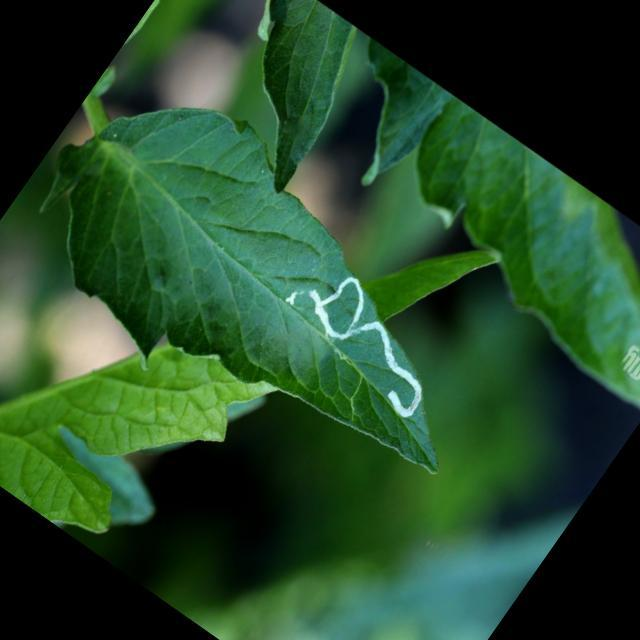Tomato target spot leaf: (0, 42, 537, 542)
